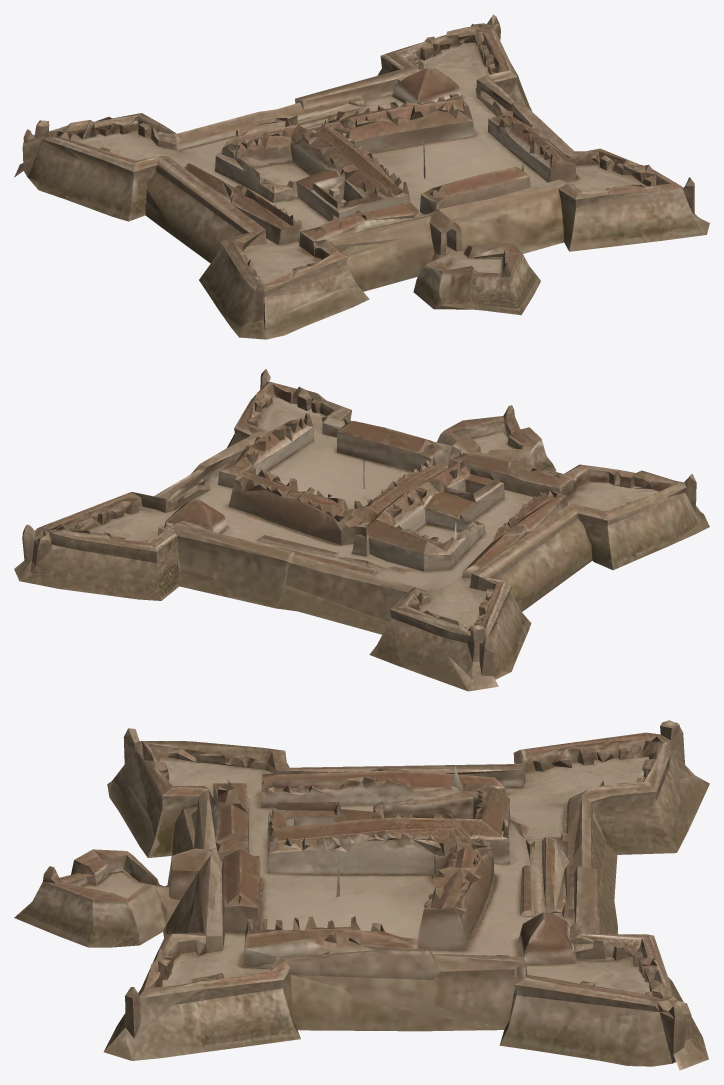
The model's file is fuerte.glb.
The picture shows the model from 3 angles, top to bottom: view 1: azimuth 30°, elevation 25°; view 2: azimuth 150°, elevation 25°; view 3: azimuth 270°, elevation 25°; orthographic projection. The views are drawn at different scales.
Size of the model in its own units: 1.89 by 0.2864 by 1.87.
Materials: 1 (1 with a texture image).
